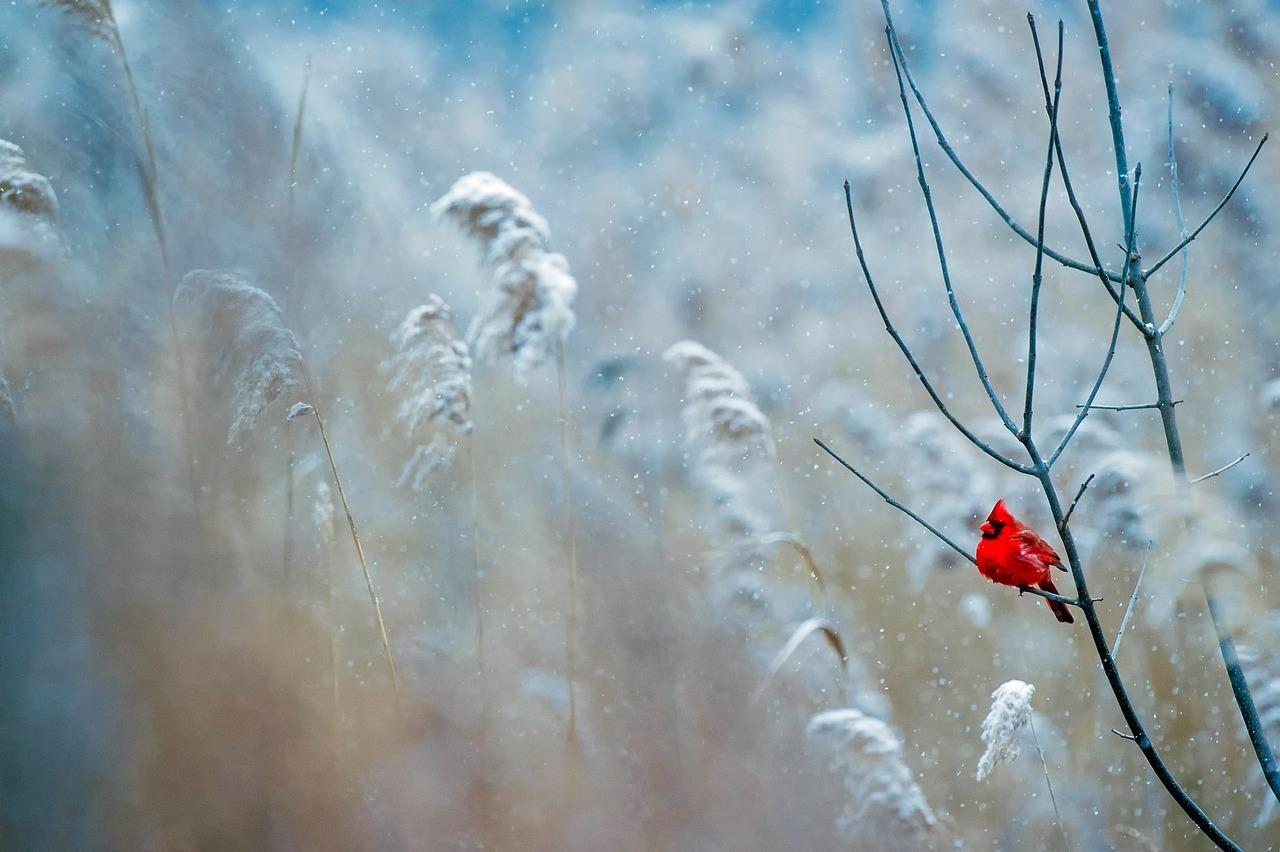bird: (975, 499, 1063, 593), (1046, 599, 1072, 622)
